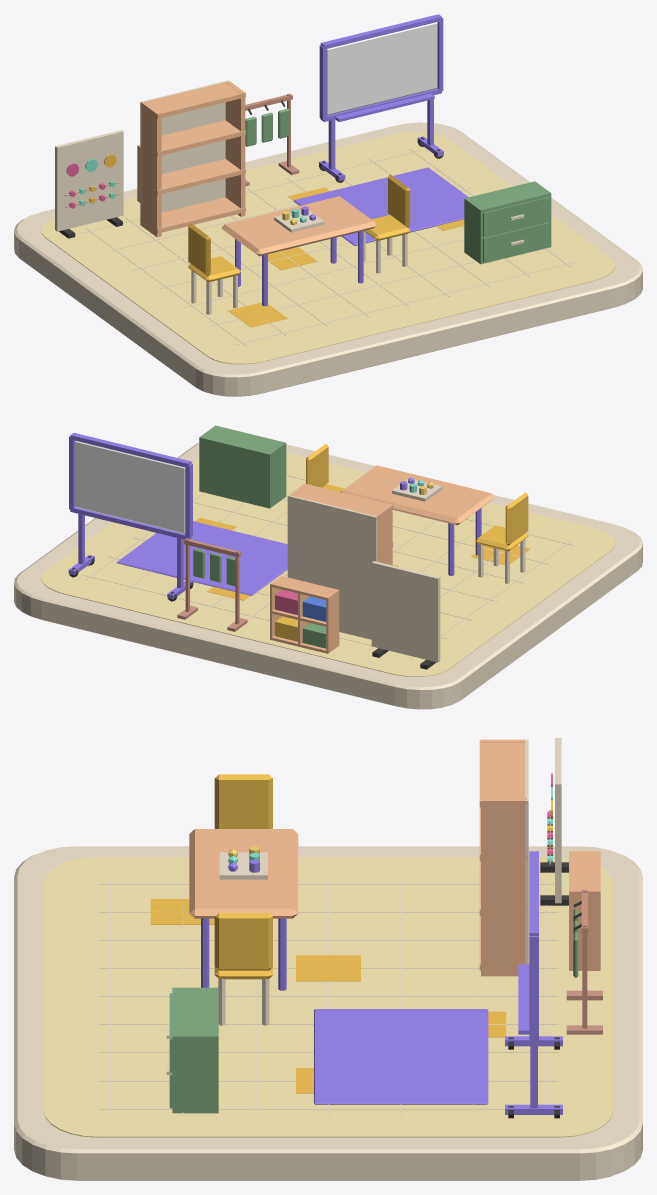
Rendered from room.fbx.
The picture shows the model from 3 angles, top to bottom: view 1: azimuth 30°, elevation 25°; view 2: azimuth 150°, elevation 25°; view 3: azimuth 270°, elevation 25°; orthographic projection. The views are drawn at different scales.
Parts seen in each view (by area): view 1: COM-02 Floor Surface, COM-01 Rounded Base Direct, Writing surface, Cabinet, Panel, Rug, Rounded table top, Back, Side, Side.001, Shelf.003, Shelf (+12 smaller); view 2: COM-02 Floor Surface, COM-01 Rounded Base Direct, Back, Writing surface, Panel, Cabinet, Rug, Rounded table top, Shelf.003, Frame rail.001, Backrest, Backrest.001 (+13 smaller); view 3: COM-02 Floor Surface, COM-01 Rounded Base Direct, Rug, Rounded table top, Side.001, Cabinet, Backrest.001, Backrest, Shelf.003, Cubbies divider.002, Geometric color tile.001, Cubbies shelf.002 (+11 smaller).
Part boxes in pixels (x1,y1,x2,y2): COM-02 Floor Surface: (41, 132, 615, 364); COM-01 Rounded Base Direct: (14, 122, 642, 396); Writing surface: (327, 22, 437, 115); Cabinet: (464, 181, 551, 264); Panel: (55, 130, 123, 231); Rug: (293, 167, 468, 245); Rounded table top: (221, 196, 376, 256); Back: (140, 80, 229, 225); Side: (141, 101, 161, 237); Side.001: (225, 81, 245, 216); Shelf.003: (140, 82, 245, 118); Shelf: (140, 197, 245, 233); COM-02 Floor Surface: (41, 453, 615, 676); COM-01 Rounded Base Direct: (14, 443, 642, 709); Back: (287, 495, 377, 639); Writing surface: (74, 440, 185, 533); Panel: (371, 561, 440, 662); Cabinet: (199, 425, 286, 508); Rug: (117, 521, 287, 595); Rounded table top: (340, 465, 494, 525); Shelf.003: (294, 483, 393, 520); Frame rail.001: (70, 433, 191, 467); Backrest: (505, 492, 528, 545); Backrest.001: (306, 444, 328, 487); COM-02 Floor Surface: (44, 857, 612, 1137); COM-01 Rounded Base Direct: (14, 846, 642, 1180); Rug: (314, 1009, 488, 1104); Rounded table top: (189, 829, 298, 918); Side.001: (481, 798, 526, 976); Cabinet: (166, 987, 218, 1113); Backrest.001: (214, 913, 272, 970); Backrest: (214, 774, 272, 828); Shelf.003: (479, 740, 527, 807); Cubbies divider.002: (569, 892, 600, 970); Geometric color tile.001: (296, 955, 360, 981); Cubbies shelf.002: (569, 851, 600, 891).
Size of the model in its own units: 600 by 204 by 520.
